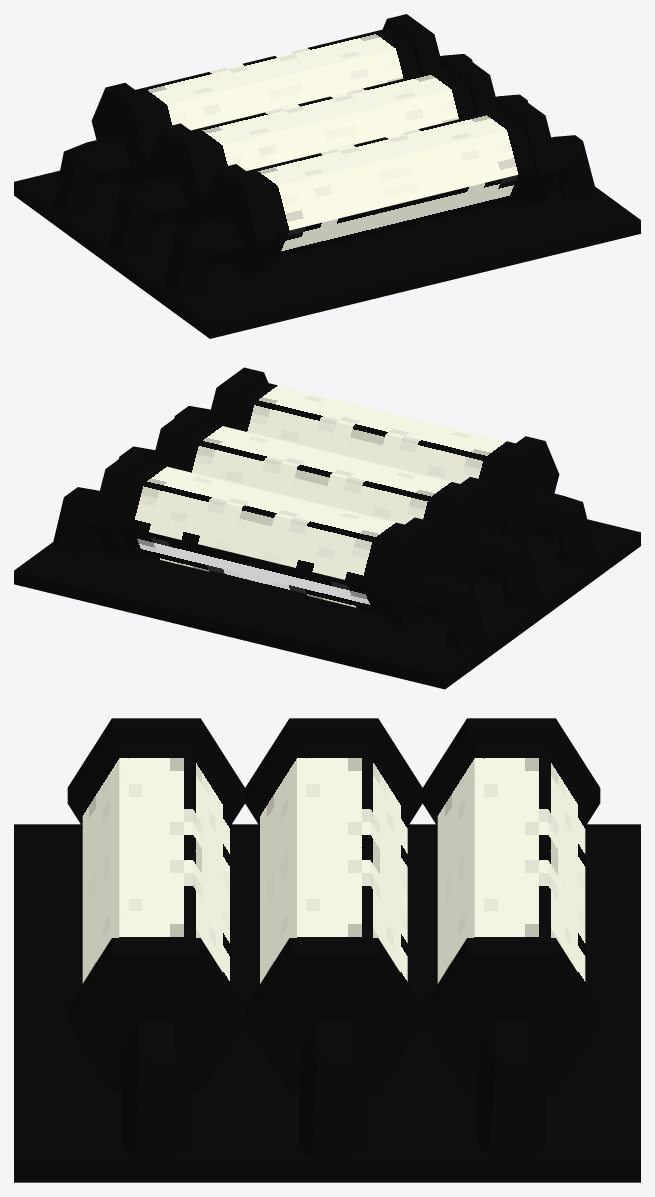
The model's file is barrel (wood)glb.glb.
3 views of the same model, one above another, from view 1: azimuth 30°, elevation 25°; view 2: azimuth 150°, elevation 25°; view 3: azimuth 270°, elevation 25° (orthographic). The views are drawn at different scales.
Parts seen in each view (by area): view 1: Light Fixture; view 2: Light Fixture; view 3: Light Fixture.
Part boxes in pixels (x1,y1,x2,y2): Light Fixture: [14, 14, 640, 338]; Light Fixture: [14, 367, 640, 689]; Light Fixture: [14, 718, 640, 1182].
Size of the model in its own units: 1.1 by 0.2714 by 0.8635.
1 material, 1 textured.
